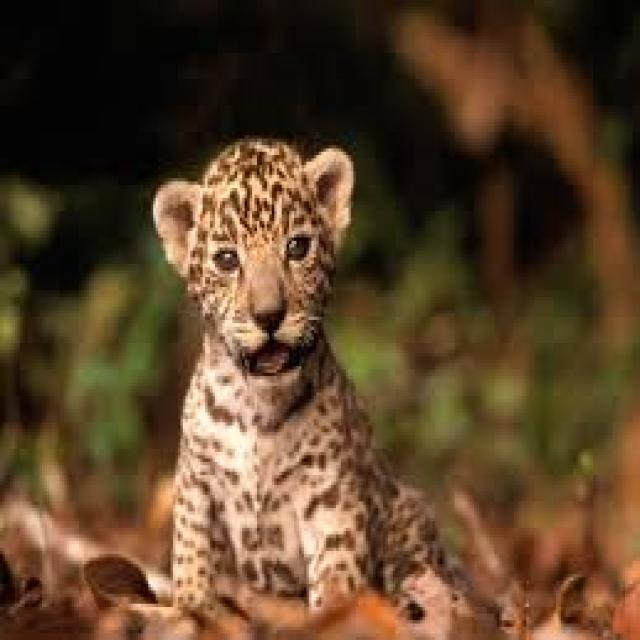Jaguar: (134, 139, 452, 607)
